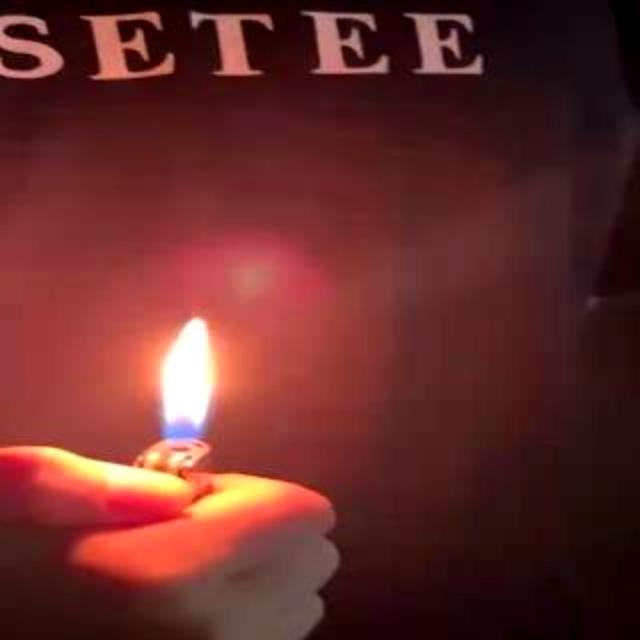fire: (135, 318, 215, 476)
